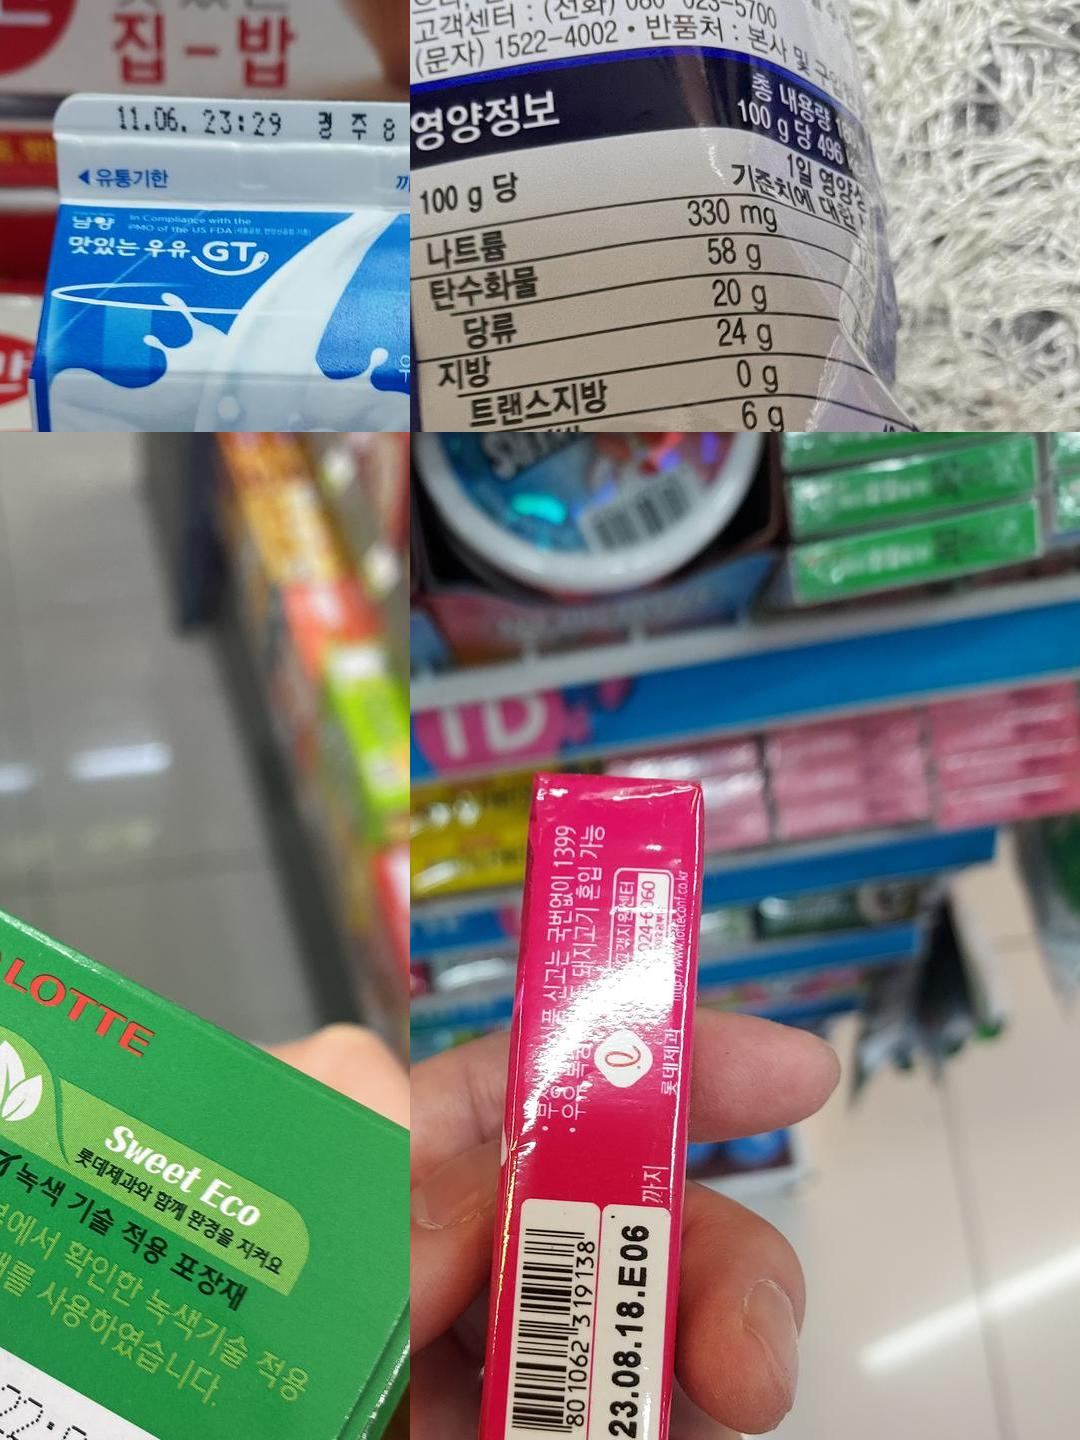gum: (601, 1202, 655, 1440)
milk: (54, 90, 410, 207)
snack food: (0, 1219, 206, 1440)
